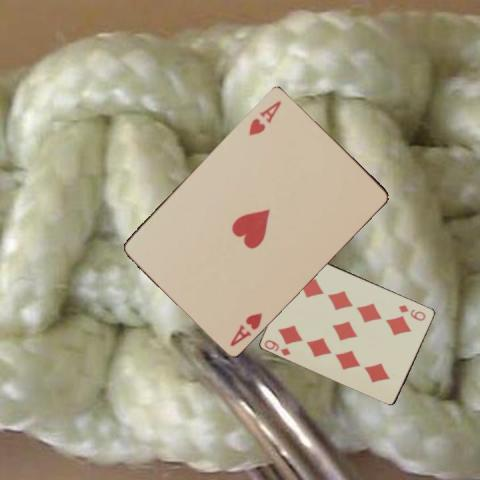9d: (396, 301, 428, 322), (261, 336, 292, 357)
Ah: (245, 96, 283, 136), (227, 310, 264, 347)
